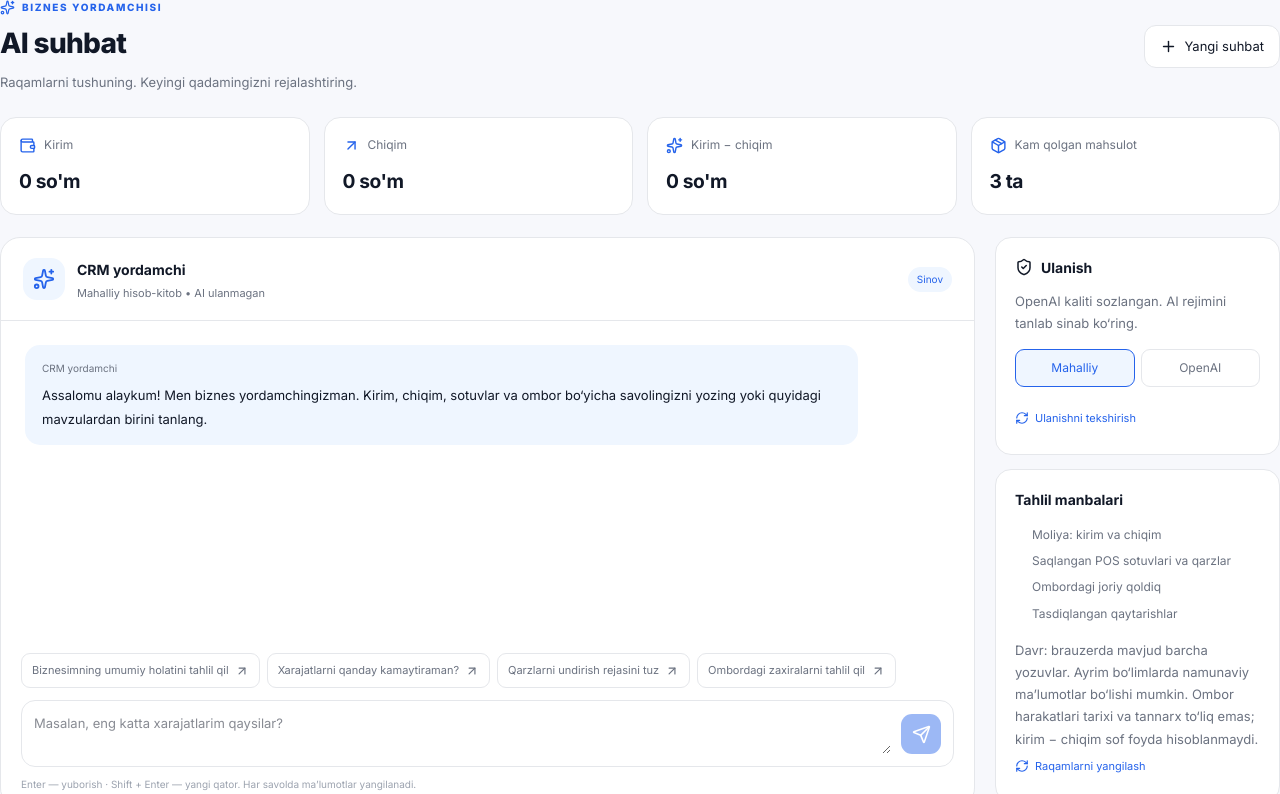
Test: failed AI request restores draft and shows an error without inventing an answer
Click the button "OpenAI": (1200, 368) x1=1140 y1=349 x2=1260 y2=387
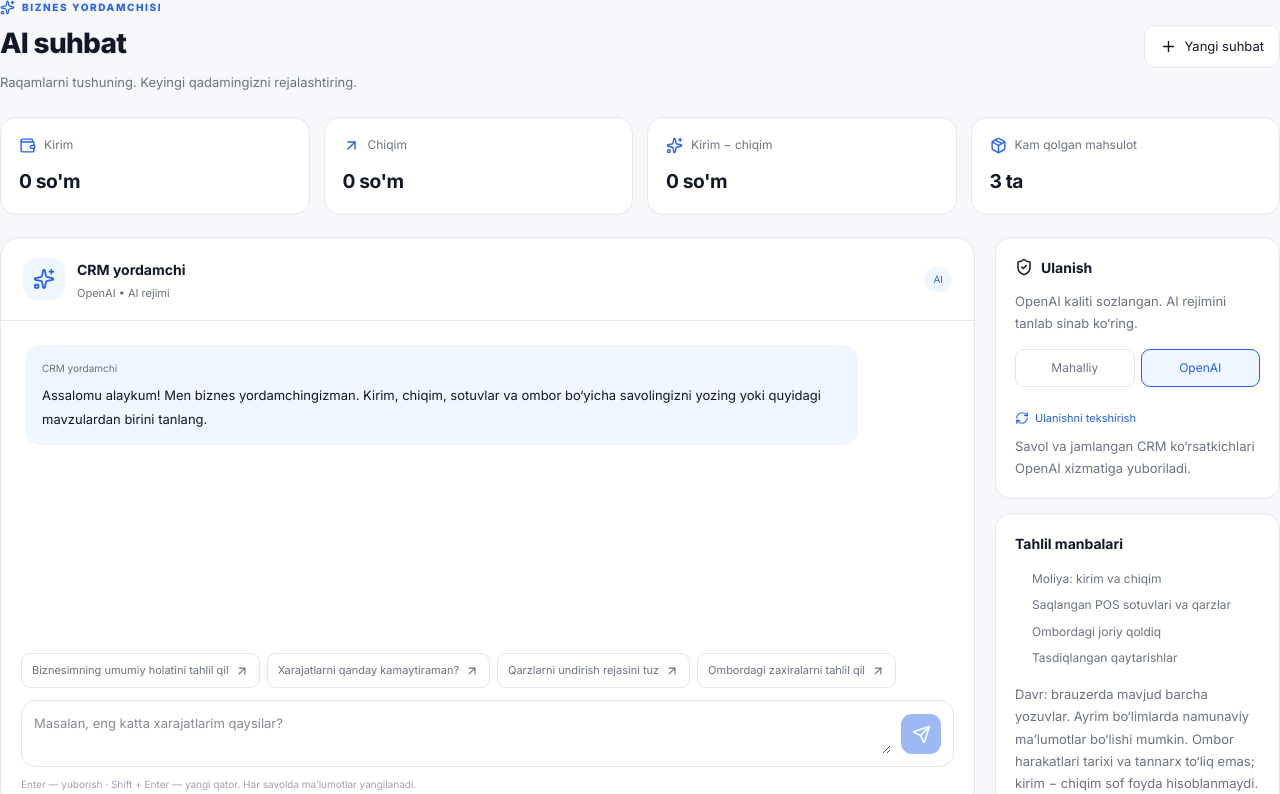
Click the button "Qarzlarni undirish rejasini tuz": (594, 671) x1=497 y1=653 x2=690 y2=688
(page scrolled)
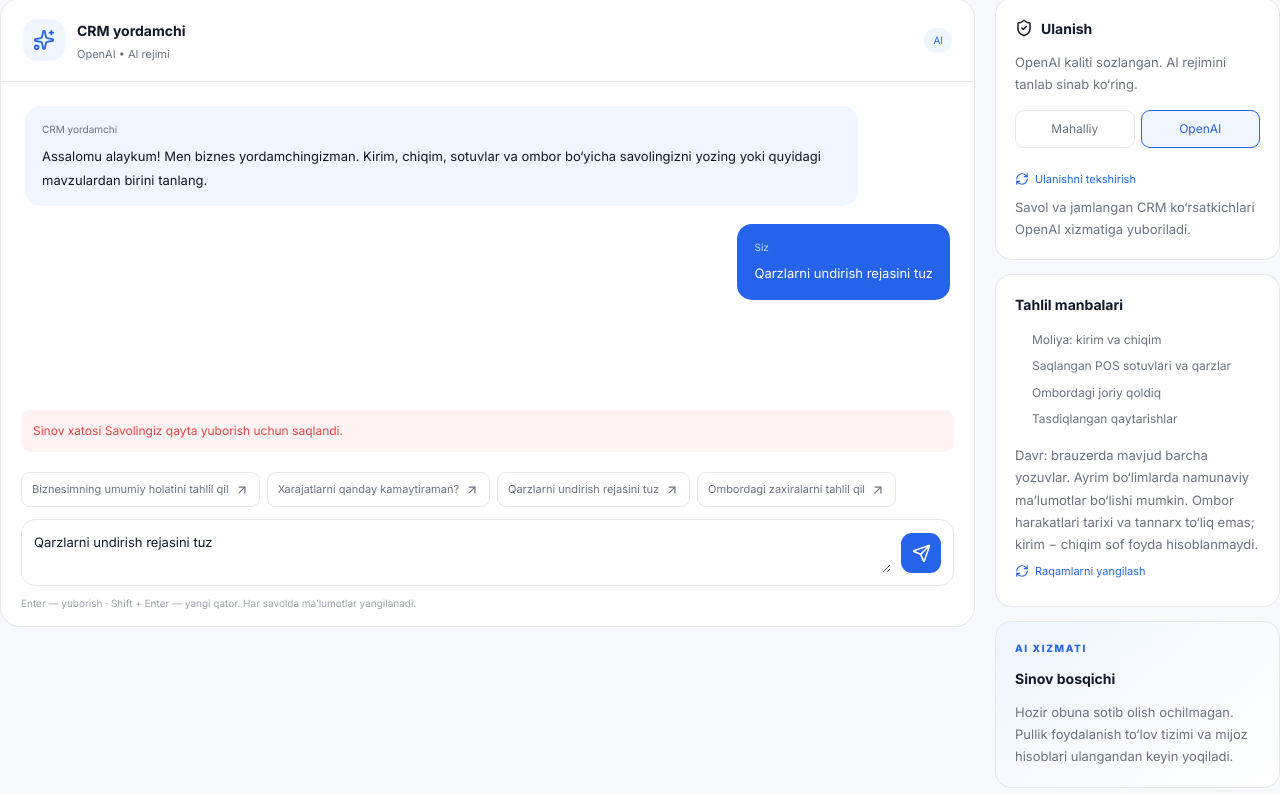
Check: the message "Sinov xatosi Savolingiz qayta yuborish uchun saqlandi." is shown, box x1=21 y1=410 x2=954 y2=452
Check: the text box holds "Qarzlarni undirish rejasini tuz", box x1=34 y1=532 x2=891 y2=574
Check: the number of elements with class "ai-message-assistant" is 1, box x1=25 y1=106 x2=858 y2=206
